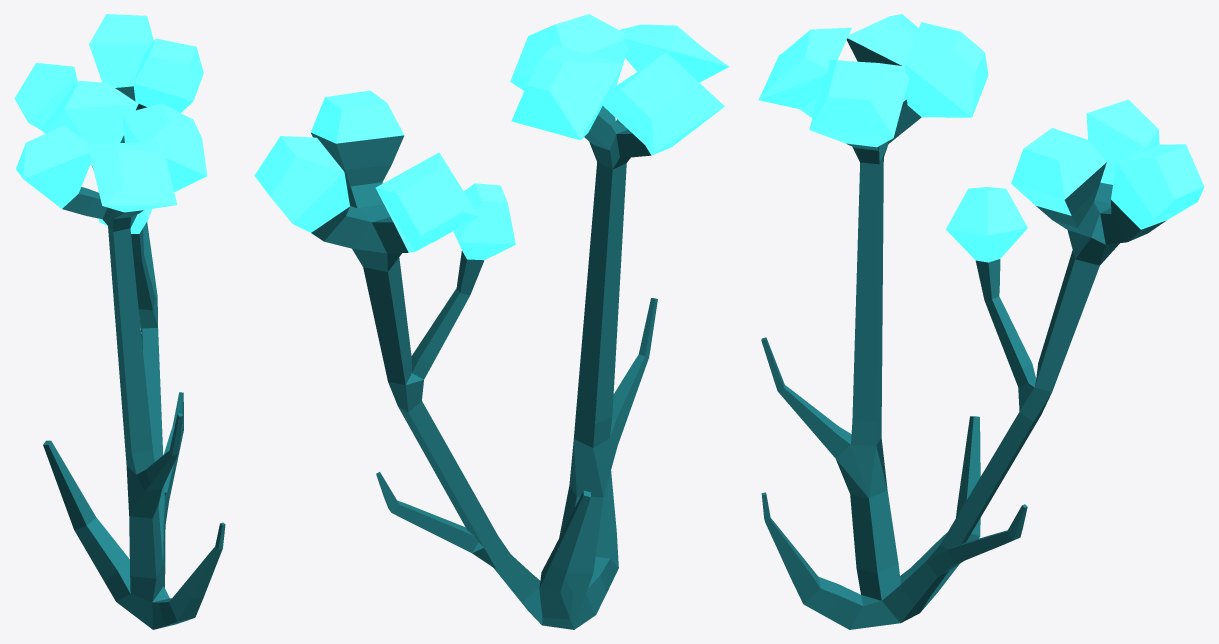
File: GlowFlower.fbx
3 views of the same model, side by side, from view 1: azimuth 30°, elevation 25°; view 2: azimuth 150°, elevation 25°; view 3: azimuth 270°, elevation 25° (orthographic). The views are drawn at different scales.
Parts seen in each view (by area): view 1: Cube; view 2: Cube; view 3: Cube.
Boxes of the visible parts, box(x1,y1,x2,y2) form: Cube: box(14, 14, 225, 629); Cube: box(254, 14, 729, 629); Cube: box(758, 14, 1204, 629).
Size of the model in its own units: 196 by 362 by 256.
